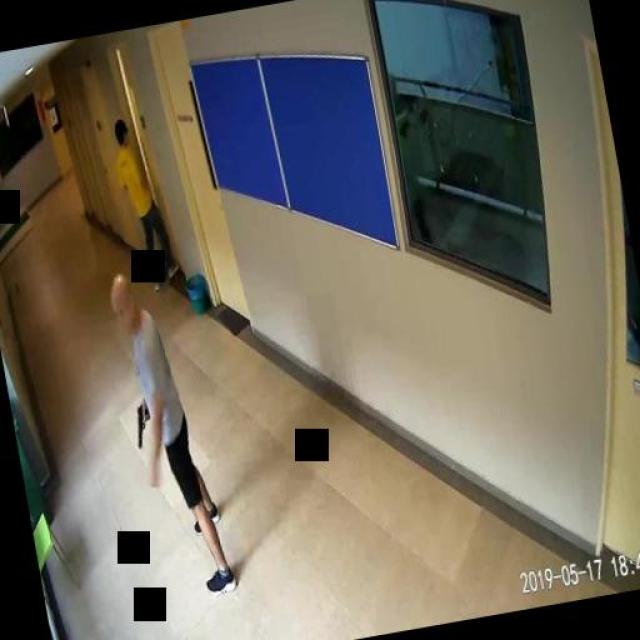gun: (128, 403, 152, 448)
